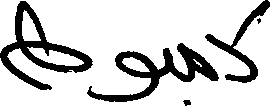ا: (205, 33, 237, 58)
ب: (161, 46, 192, 105)
ط: (0, 0, 89, 97)
م: (176, 31, 217, 82)
و: (112, 48, 157, 102)
